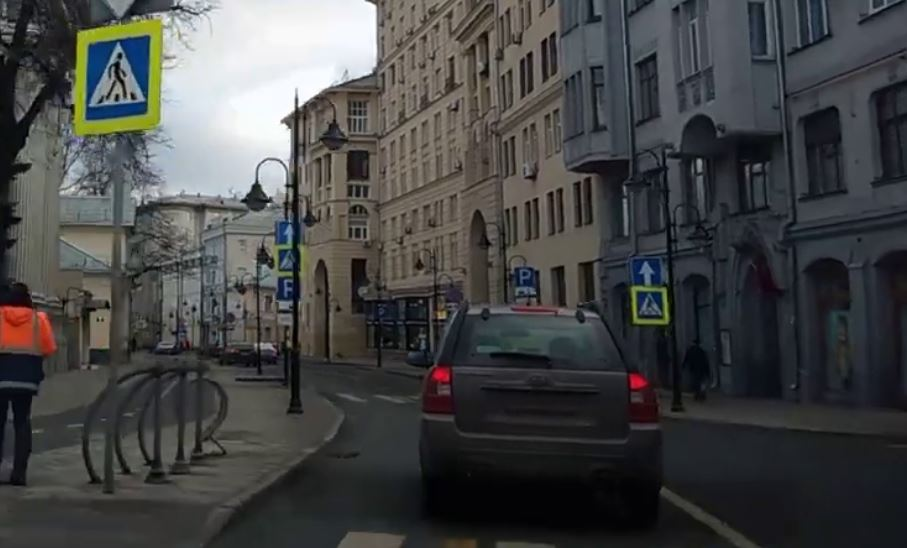Yaya Gecidi: (87, 41, 153, 121), (635, 288, 666, 318)
